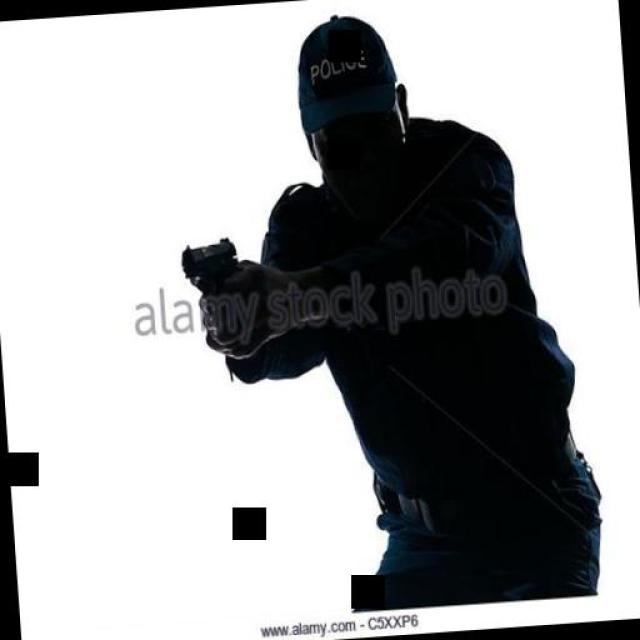gun: (174, 229, 244, 321)
